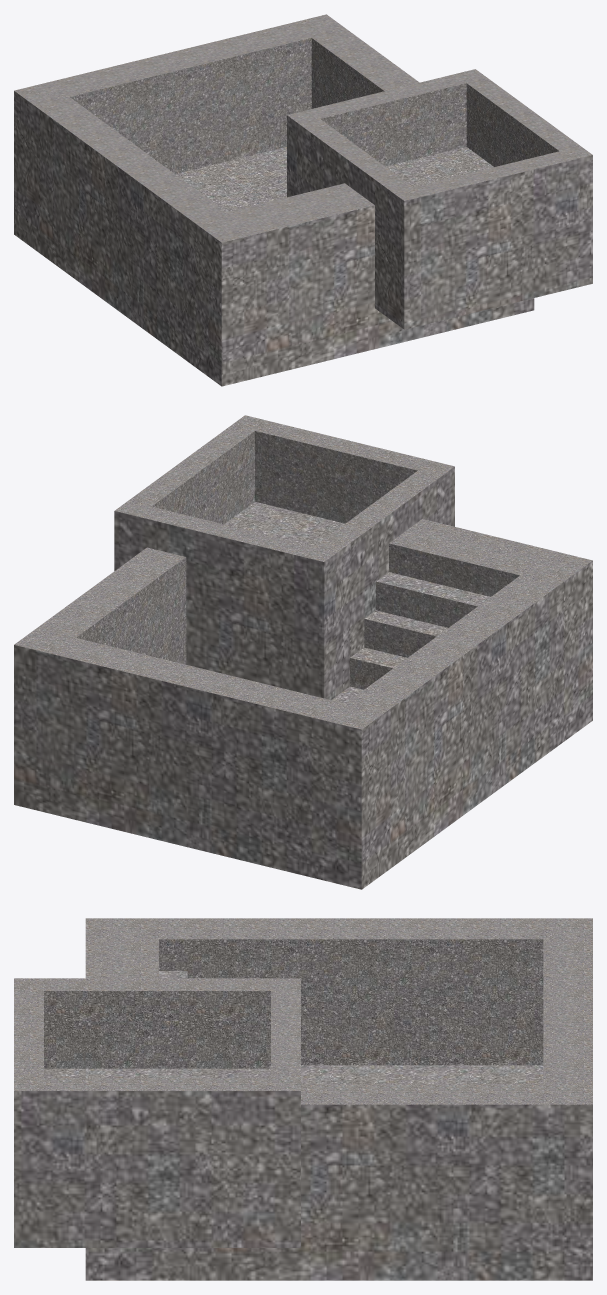
File: mdl_paprika_pool.gltf
3 renders of one model, top to bottom at view 1: azimuth 30°, elevation 25°; view 2: azimuth 150°, elevation 25°; view 3: azimuth 270°, elevation 25°, orthographic. The views are drawn at different scales.
Parts seen in each view (by area): view 1: Material2.003; view 2: Material2.003; view 3: Material2.003.
Part boxes in pixels (box(x1,y1,x2,y2)): Material2.003: box(14, 14, 592, 386); Material2.003: box(14, 415, 592, 889); Material2.003: box(14, 918, 592, 1280).
Size of the model in its own units: 104 by 49.5 by 125.
1 material, 1 textured.
